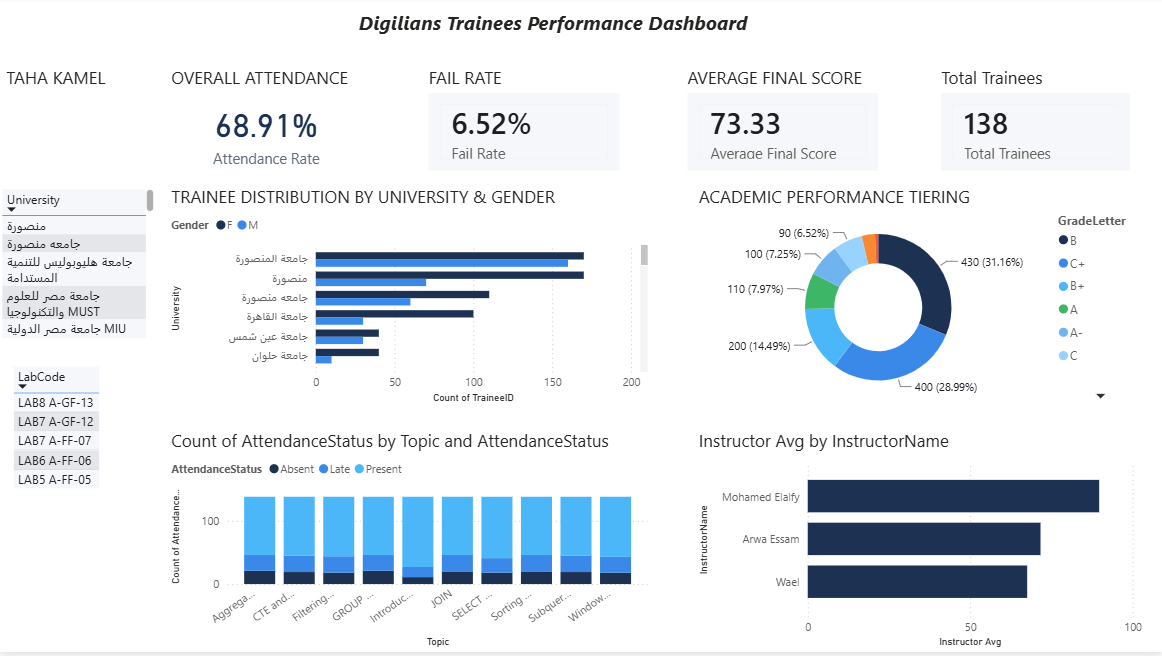

Layout of this report page (visuals, bound fields, positions):
{"tool":"powerbi","page":{"name":"Page 1","canvas":[1280,720],"ordinal":0},"visuals":[{"type":"textbox","box":[391.4,9.3,449.5,43],"z":0},{"type":"card","title":"OVERALL ATTENDANCE","fields":{"Values":["measures_.Attendance Rate"]},"box":[184.9,76.7,219,120.5],"z":1000},{"type":"cardVisual","title":"FAIL RATE","fields":{"Data":["measures_.Fail Rate"]},"box":[468.4,76.7,219,120.5],"z":2000},{"type":"cardVisual","title":"Total Trainees","fields":{"Data":["measures_.Total Trainees"]},"box":[1030.6,76.7,217.8,120.5],"z":3000},{"type":"donutChart","title":"ACADEMIC PERFORMANCE TIERING","fields":{"Category":["v_TraineePerformance.GradeLetter"],"Y":["CountNonNull(v_SessionAttendance.TraineeID)"]},"box":[764.1,206.8,496.4,244.6],"z":4000},{"type":"cardVisual","title":"AVERAGE FINAL SCORE","fields":{"Data":["measures_.Average Final Score"]},"box":[751.9,76.7,219,120.5],"z":5000},{"type":"clusteredBarChart","title":"TRAINEE DISTRIBUTION BY UNIVERSITY & GENDER","fields":{"Category":["v_TraineePerformance.University"],"Series":["v_TraineePerformance.Gender"],"Y":["CountNonNull(v_SessionAttendance.TraineeID)"]},"box":[184.9,206.8,532.9,244.6],"z":6000},{"type":"columnChart","fields":{"Category":["v_SessionAttendance.Topic"],"Series":["v_SessionAttendance.AttendanceStatus"],"Y":["CountNonNull(v_SessionAttendance.AttendanceStatus)"]},"box":[184.9,474.5,532.9,245.8],"z":7000},{"type":"barChart","fields":{"Category":["v_TraineePerformance.InstructorName"],"Y":["measures_.Instructor Avg"]},"box":[764.1,474.5,496.4,245.8],"z":8000},{"type":"pivotTable","fields":{"Rows":["v_TraineePerformance.University"]},"box":[0,206.8,176.4,172.8],"z":8001},{"type":"tableEx","fields":{"Values":["v_TraineePerformance.LabCode"]},"box":[11,401.5,152.1,143.6],"z":8002},{"type":"textbox","title":"TAHA KAMEL","box":[3.7,76.7,181.3,93.7],"z":8003}]}

Visuals, with their boxes in screenshot pixels (x1, y1, x2, y2), scaled from the page's 1280x720 canvas onto the 1162x656 screenshot:
textbox: (355, 8, 763, 48)
"OVERALL ATTENDANCE" card: (168, 70, 367, 180)
"FAIL RATE" cardVisual: (425, 70, 624, 180)
"Total Trainees" cardVisual: (936, 70, 1133, 180)
"ACADEMIC PERFORMANCE TIERING" donutChart: (694, 188, 1144, 411)
"AVERAGE FINAL SCORE" cardVisual: (683, 70, 881, 180)
"TRAINEE DISTRIBUTION BY UNIVERSITY & GENDER" clusteredBarChart: (168, 188, 652, 411)
columnChart - v_SessionAttendance.Topic x v_SessionAttendance.AttendanceStatus: (168, 432, 652, 655)
barChart - v_TraineePerformance.InstructorName x measures_.Instructor Avg: (694, 432, 1144, 655)
pivotTable - v_TraineePerformance.University: (0, 188, 160, 346)
tableEx - v_TraineePerformance.LabCode: (10, 366, 148, 497)
"TAHA KAMEL" textbox: (3, 70, 168, 155)
